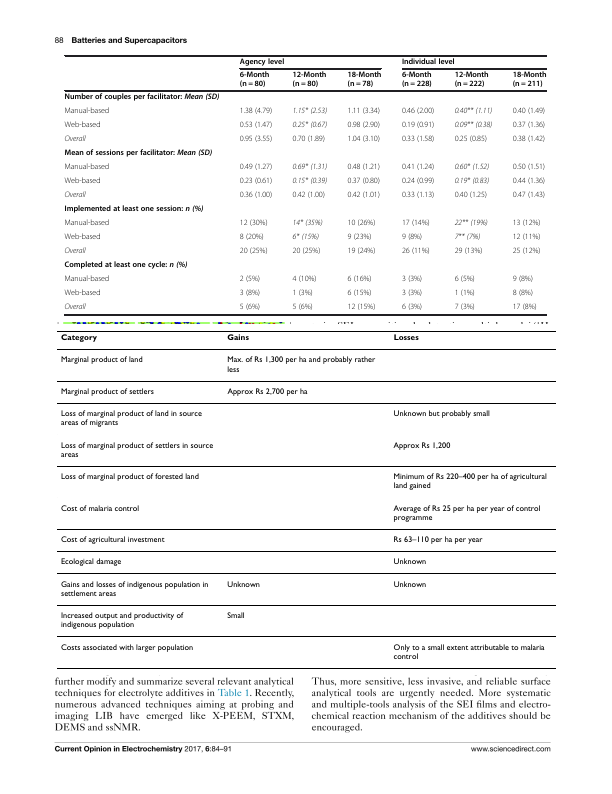borderless: (56, 329, 556, 668), (63, 54, 546, 314)
cell: (59, 441, 214, 460), (392, 472, 547, 491), (392, 643, 545, 662), (226, 356, 376, 375), (59, 580, 209, 599), (392, 504, 541, 523), (59, 409, 202, 428), (59, 611, 184, 630), (64, 93, 220, 103), (64, 149, 213, 159), (64, 205, 204, 215), (59, 472, 199, 482), (59, 643, 194, 653), (64, 261, 188, 271), (59, 535, 165, 545), (392, 409, 490, 419), (59, 387, 154, 397), (392, 535, 483, 545), (226, 387, 308, 397), (59, 504, 140, 514), (59, 356, 143, 365), (292, 71, 327, 90), (347, 71, 382, 90), (454, 71, 489, 90), (512, 71, 547, 90), (401, 71, 433, 90), (392, 441, 451, 451), (239, 71, 270, 90), (59, 558, 122, 567), (401, 58, 456, 67), (239, 58, 285, 67), (64, 107, 110, 116), (64, 163, 110, 172), (64, 219, 110, 228), (64, 275, 110, 284), (454, 107, 493, 116), (454, 121, 493, 130), (392, 580, 427, 590), (59, 334, 97, 343), (226, 580, 260, 590), (64, 121, 101, 130), (64, 177, 101, 186), (64, 233, 101, 242), (64, 289, 101, 298), (292, 107, 328, 116), (292, 121, 328, 130), (292, 163, 328, 172), (454, 163, 490, 172), (292, 177, 328, 186), (454, 177, 490, 186), (454, 219, 489, 228), (392, 558, 427, 567), (239, 107, 273, 116), (347, 107, 381, 116), (401, 107, 435, 116), (512, 107, 546, 116), (239, 121, 273, 130), (347, 121, 381, 130), (401, 121, 435, 130), (512, 121, 546, 130), (239, 135, 273, 144), (292, 135, 326, 144), (347, 135, 381, 144), (401, 135, 435, 144), (454, 135, 488, 144), (512, 135, 546, 144), (239, 163, 273, 172), (347, 163, 381, 172), (401, 163, 435, 172), (512, 163, 546, 172), (239, 177, 273, 186), (347, 177, 381, 186), (401, 177, 435, 186), (512, 177, 546, 186), (239, 191, 273, 200), (292, 191, 326, 200), (347, 191, 381, 200), (401, 191, 435, 200), (454, 191, 488, 200), (512, 191, 546, 200), (292, 219, 323, 228), (401, 219, 431, 228), (401, 247, 431, 256), (239, 219, 268, 228), (347, 219, 376, 228), (512, 219, 541, 228), (512, 233, 541, 242), (239, 247, 268, 256), (292, 247, 321, 256), (347, 247, 376, 256), (454, 247, 483, 256), (512, 247, 541, 256), (347, 303, 376, 312), (292, 233, 320, 242), (454, 233, 481, 242), (392, 334, 419, 343), (239, 233, 265, 242), (512, 303, 538, 312), (347, 233, 372, 242), (292, 275, 317, 284), (347, 275, 372, 284), (347, 289, 372, 298), (64, 135, 87, 144), (64, 191, 87, 200), (64, 247, 87, 256), (64, 303, 87, 312), (226, 334, 249, 343), (401, 233, 423, 242), (239, 275, 261, 284), (401, 275, 423, 284), (454, 275, 476, 284), (512, 275, 534, 284), (239, 289, 261, 298), (292, 289, 314, 298), (401, 289, 423, 298), (454, 289, 476, 298), (512, 289, 534, 298), (239, 303, 261, 312), (292, 303, 314, 312), (401, 303, 423, 312), (454, 303, 476, 312), (226, 611, 245, 621)
